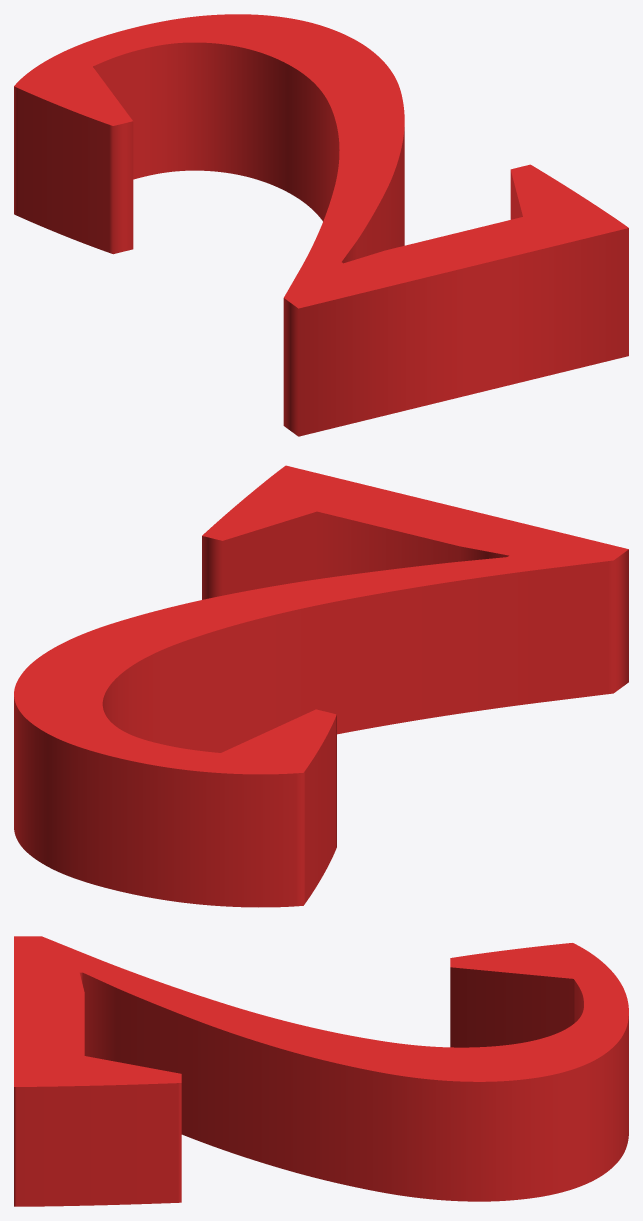
File: two.glb
3 renders of one model, top to bottom at view 1: azimuth 30°, elevation 25°; view 2: azimuth 150°, elevation 25°; view 3: azimuth 270°, elevation 25°, orthographic. The views are drawn at different scales.
Visible parts, largest first — view 1: Текст; view 2: Текст; view 3: Текст.
Boxes of the visible parts, x1=… form: Текст: x1=14, y1=14, x2=628, y2=436; Текст: x1=14, y1=465, x2=628, y2=907; Текст: x1=14, y1=936, x2=628, y2=1206.
Size of the model in its own units: 0.3239 by 0.12 by 0.5584.
